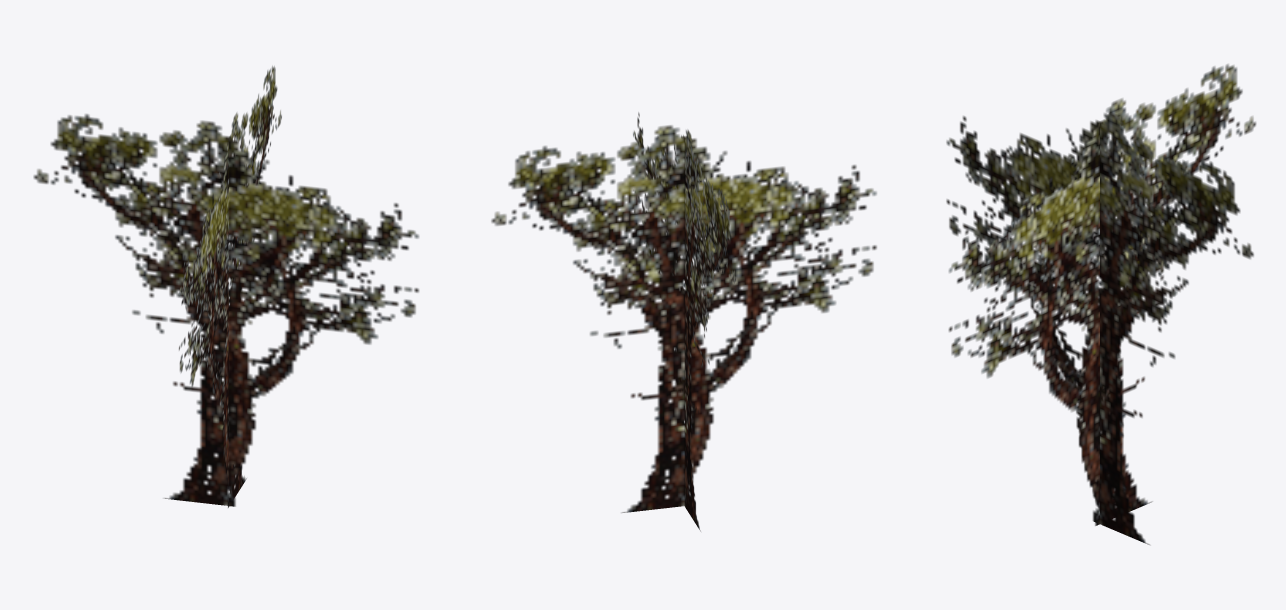
The model's file is tree049.glb.
3 renders of one model, left to right at view 1: azimuth 30°, elevation 25°; view 2: azimuth 150°, elevation 25°; view 3: azimuth 270°, elevation 25°, orthographic. The views are drawn at different scales.
Parts seen in each view (by area): view 1: tree049; view 2: tree049; view 3: tree049.
Part boxes in pixels (bbox=[...]): tree049: bbox=[33, 66, 419, 507]; tree049: bbox=[491, 112, 876, 531]; tree049: bbox=[946, 64, 1256, 544].
Bounding box in the file's own units: 1.94 × 2.82 × 1.94.
1 material, 1 textured.
